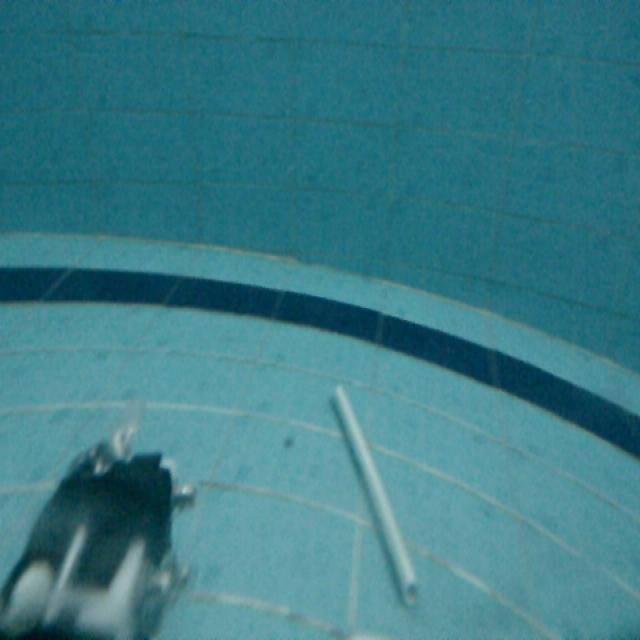Cube: (331, 386, 421, 605)
